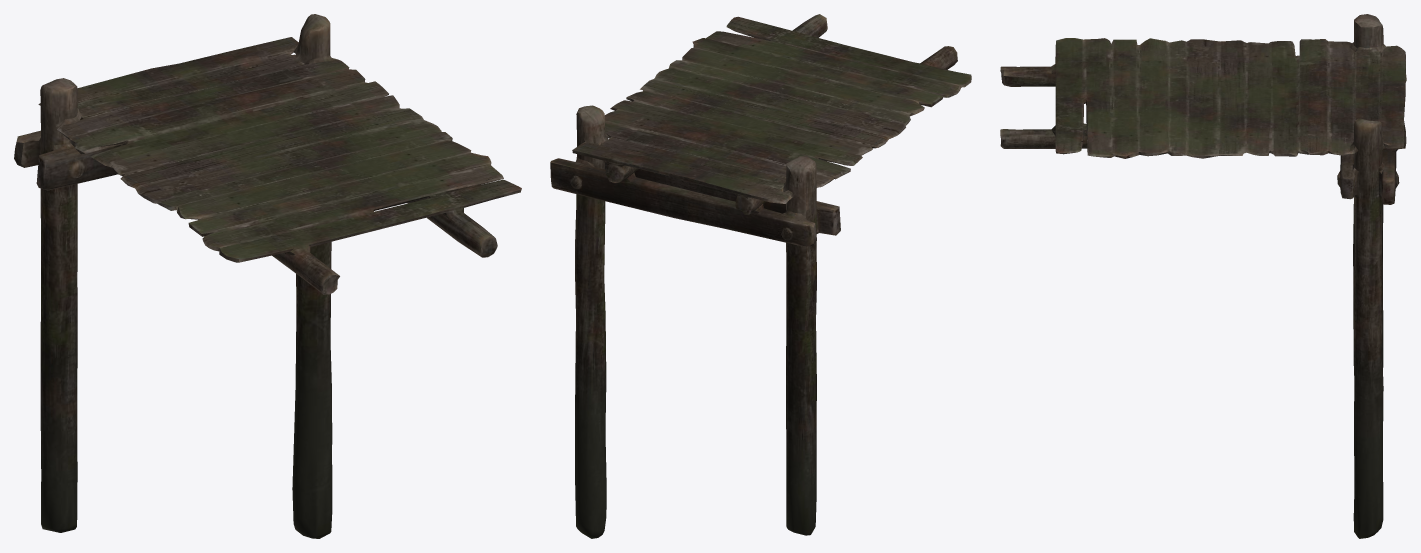
The model's file is ph_pier.glb.
3 renders of one model, left to right at view 1: azimuth 30°, elevation 25°; view 2: azimuth 150°, elevation 25°; view 3: azimuth 270°, elevation 25°, orthographic. The views are drawn at different scales.
Visible parts, largest first — view 1: pier; view 2: pier; view 3: pier.
Boxes of the visible parts, left/top/right/bottom form: pier: left=14, top=14, right=521, bottom=538; pier: left=550, top=14, right=971, bottom=538; pier: left=1000, top=14, right=1406, bottom=538.
Bounding box in the file's own units: 2.5 × 3.83 × 3.38.
1 material, 1 textured.
